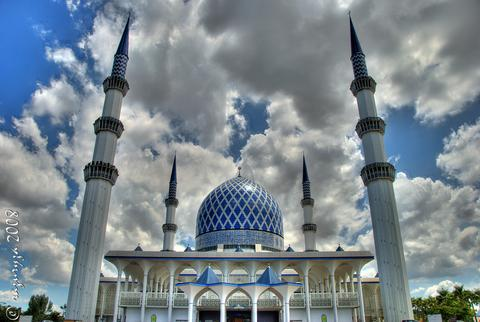Mosque: (61, 9, 409, 321)
